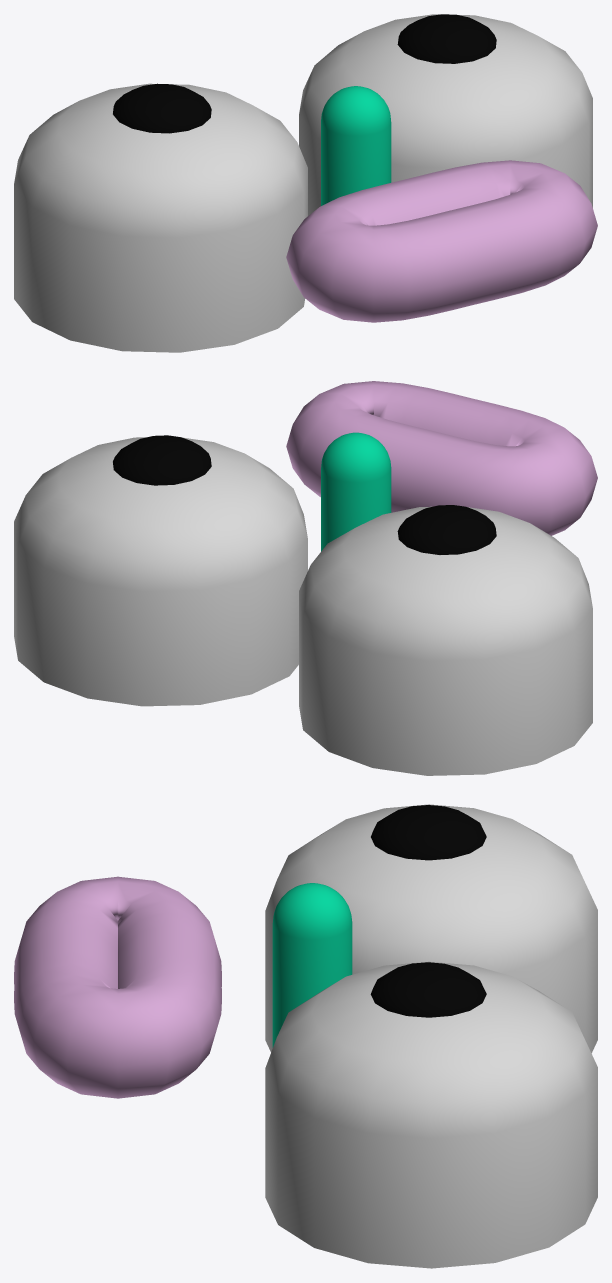
3 views of the same model, one above another, from view 1: azimuth 30°, elevation 25°; view 2: azimuth 150°, elevation 25°; view 3: azimuth 270°, elevation 25° (orthographic). The views are drawn at different scales.
Parts seen in each view (by area): view 1: BezierCircle_001; view 2: BezierCircle_001; view 3: BezierCircle_001.
Part boxes in pixels (box(x1,y1,x2,y2)): BezierCircle_001: box(14, 14, 597, 352); BezierCircle_001: box(14, 381, 597, 775); BezierCircle_001: box(14, 804, 597, 1268).
Bounding box in the file's own units: 0.9298 × 0.7667 × 0.3368.
